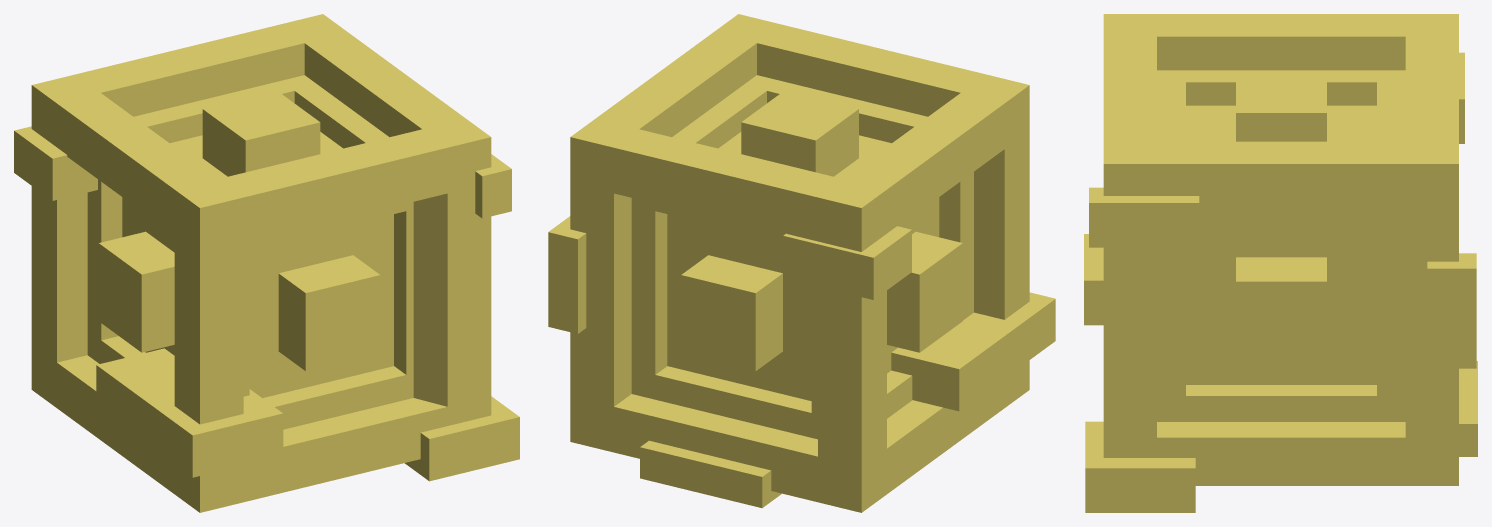
File: CUBES_LVL5_LOW.fbx
3 views of the same model, side by side, from view 1: azimuth 30°, elevation 25°; view 2: azimuth 150°, elevation 25°; view 3: azimuth 270°, elevation 25° (orthographic). The views are drawn at different scales.
Parts seen in each view (by area): view 1: Cube.045; view 2: Cube.045; view 3: Cube.045.
Part boxes in pixels (x1,y1,x2,y2): Cube.045: (14, 14, 519, 512); Cube.045: (548, 14, 1055, 512); Cube.045: (1084, 14, 1477, 512).
Bounding box in the file's own units: 225 × 210 × 222.
